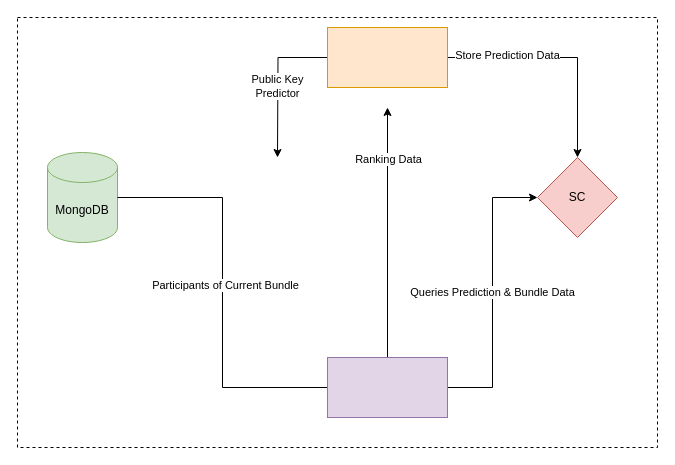
Some shapes in this 675 by 465 pixel diagram are drawn without their labels. The centre of each missing label's shape, as x and y in pixels:
"Front End" goes at point (387, 57).
"NodeJs" goes at point (387, 387).
